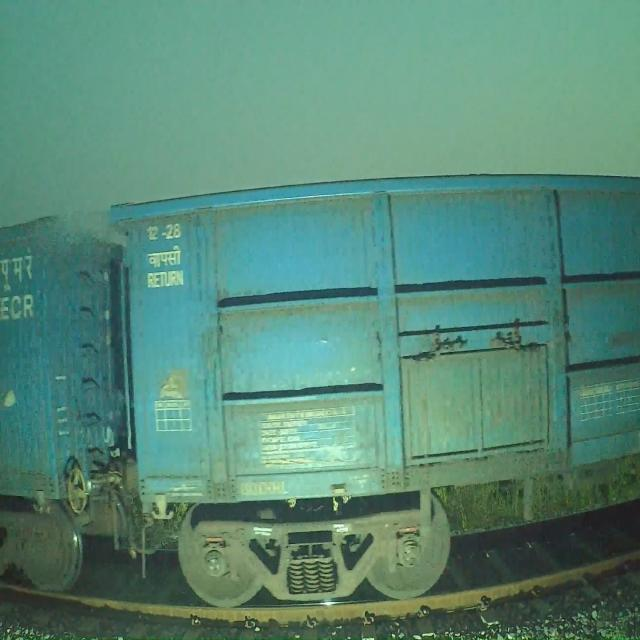WAgon-uic: (106, 166, 640, 614), (0, 208, 159, 596)
